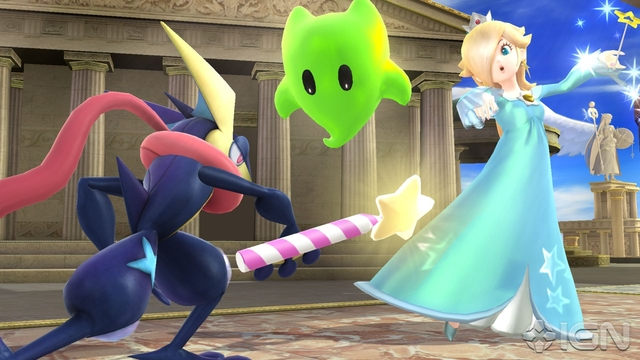greninja: (2, 18, 321, 360)
